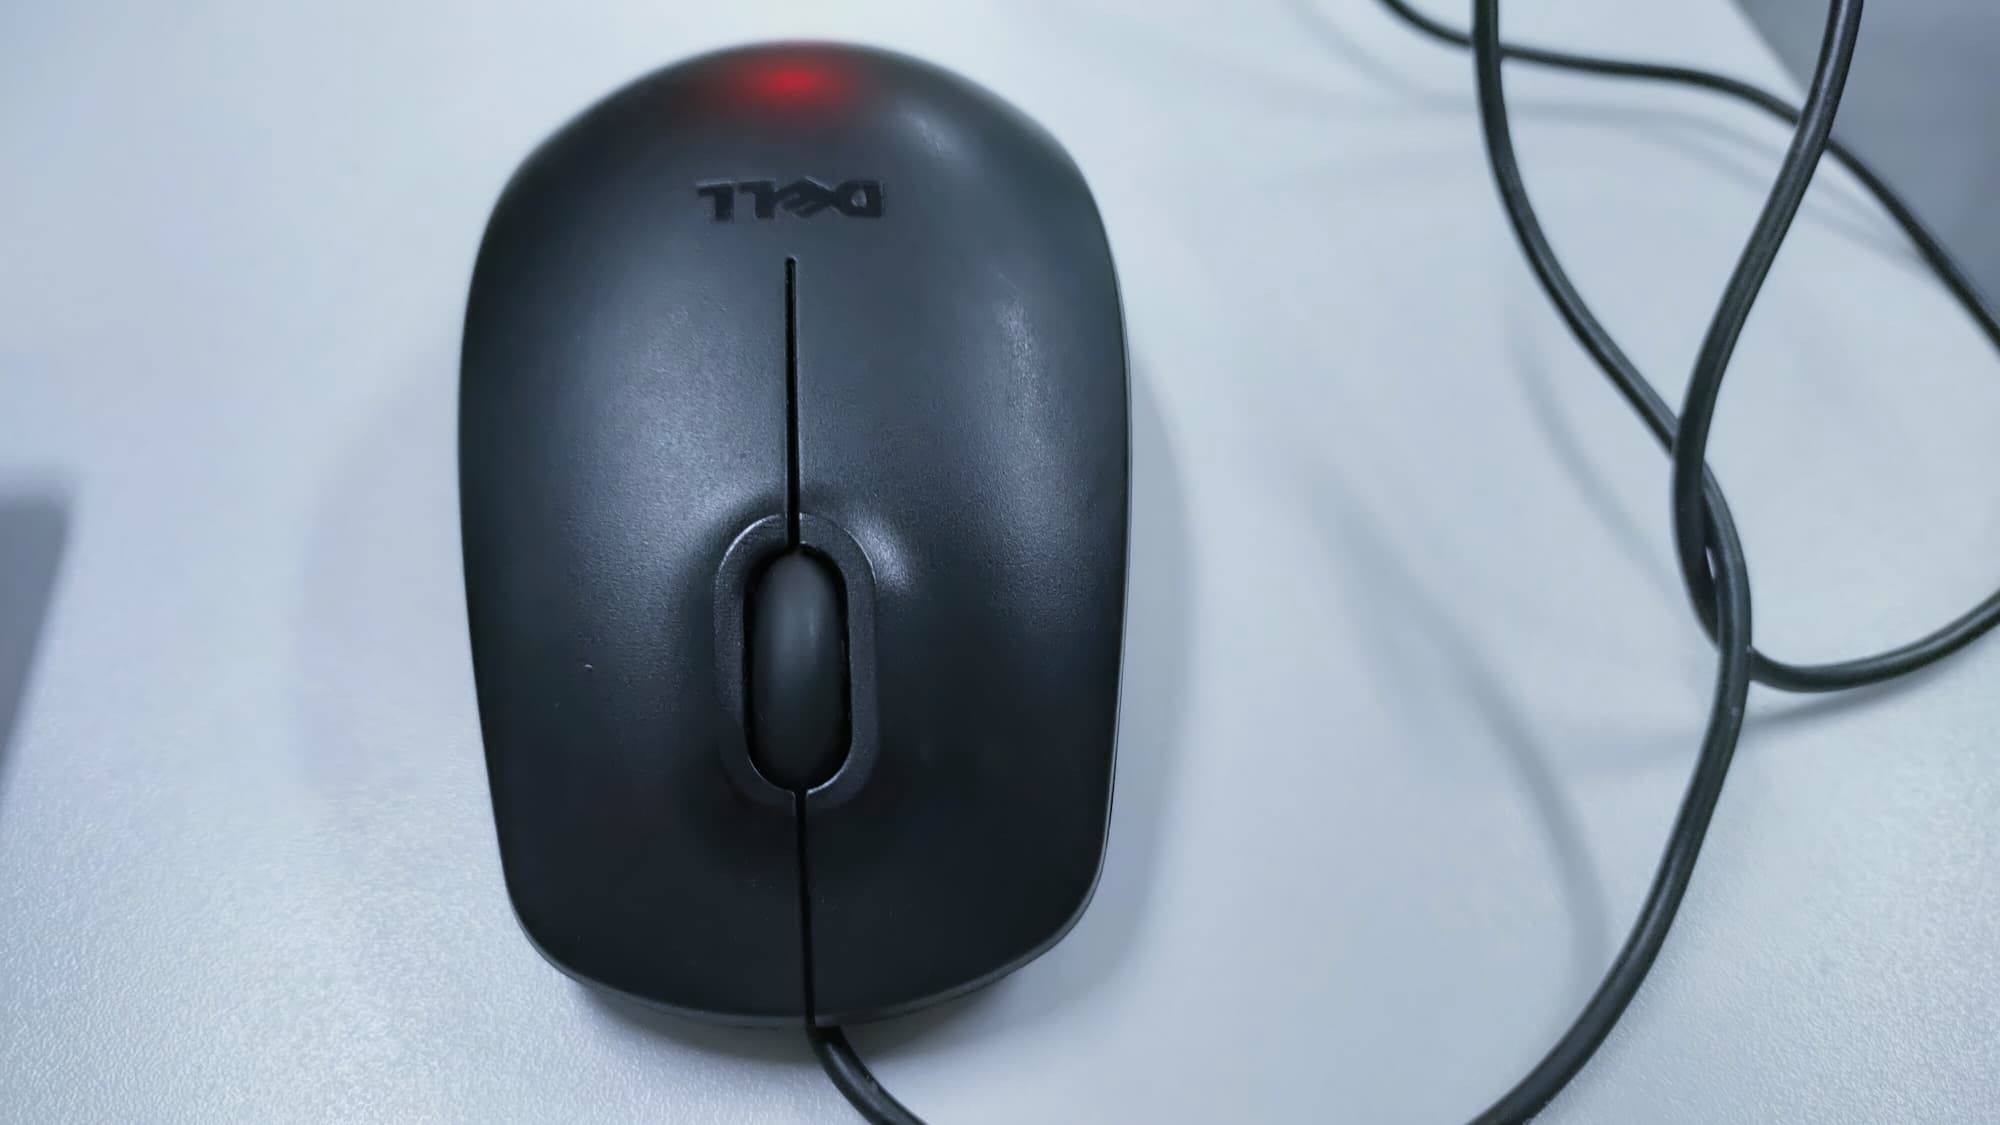mouse: (386, 12, 1223, 1065)
